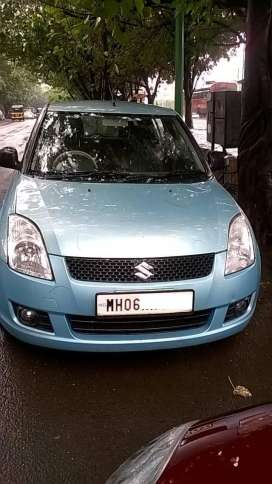license_plate: (96, 294, 194, 317)
